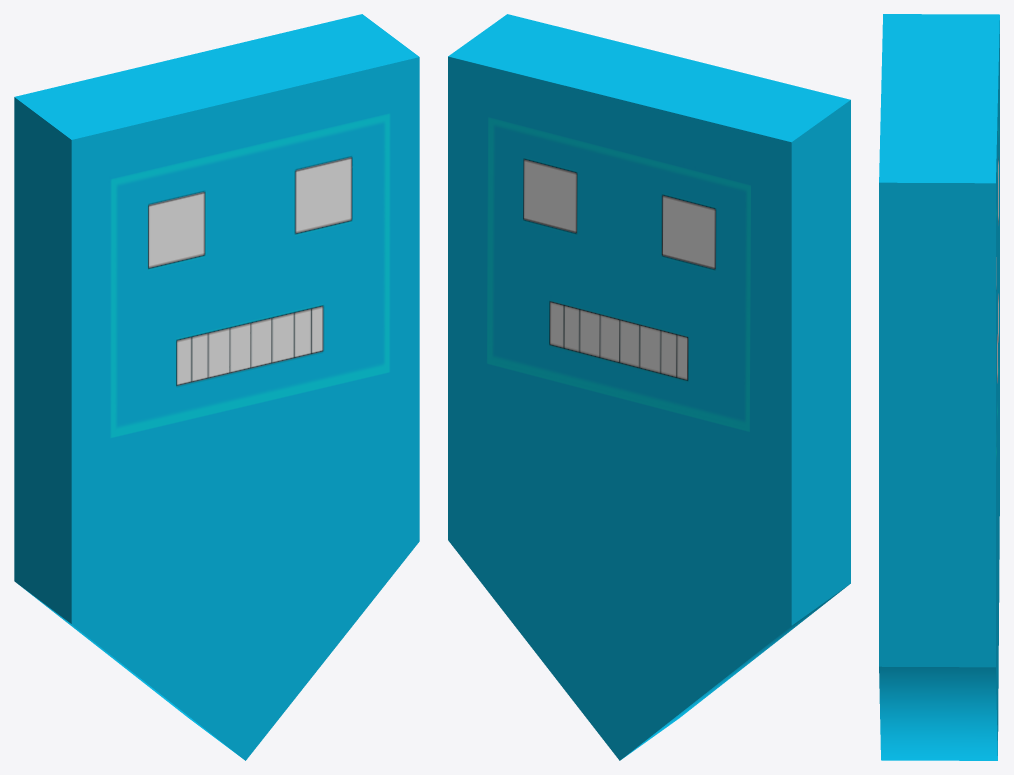
The model's file is checkpoint.fbx.
3 views of the same model, side by side, from view 1: azimuth 30°, elevation 25°; view 2: azimuth 150°, elevation 25°; view 3: azimuth 270°, elevation 25° (orthographic).
Visible parts, largest first — view 1: pCube1; view 2: pCube1; view 3: pCube1.
Part boxes in pixels (x1,y1,x2,y2): pCube1: (14,14,419,760); pCube1: (448,14,850,760); pCube1: (879,14,999,760).
Bounding box in the file's own units: 17.13 × 31.25 × 5.17.
1 material, 1 textured.
